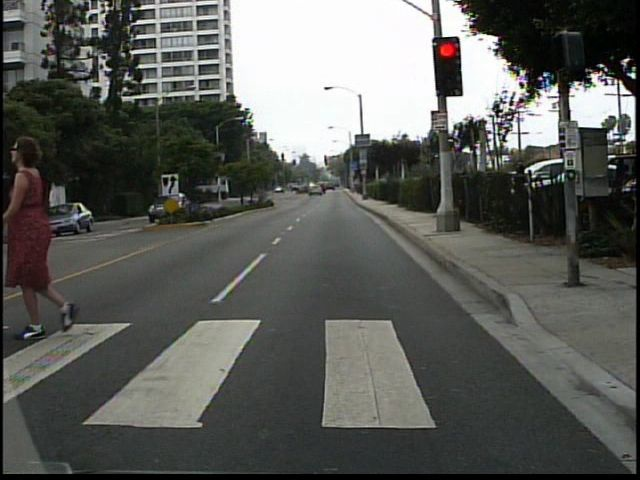person: (6, 131, 95, 341)
